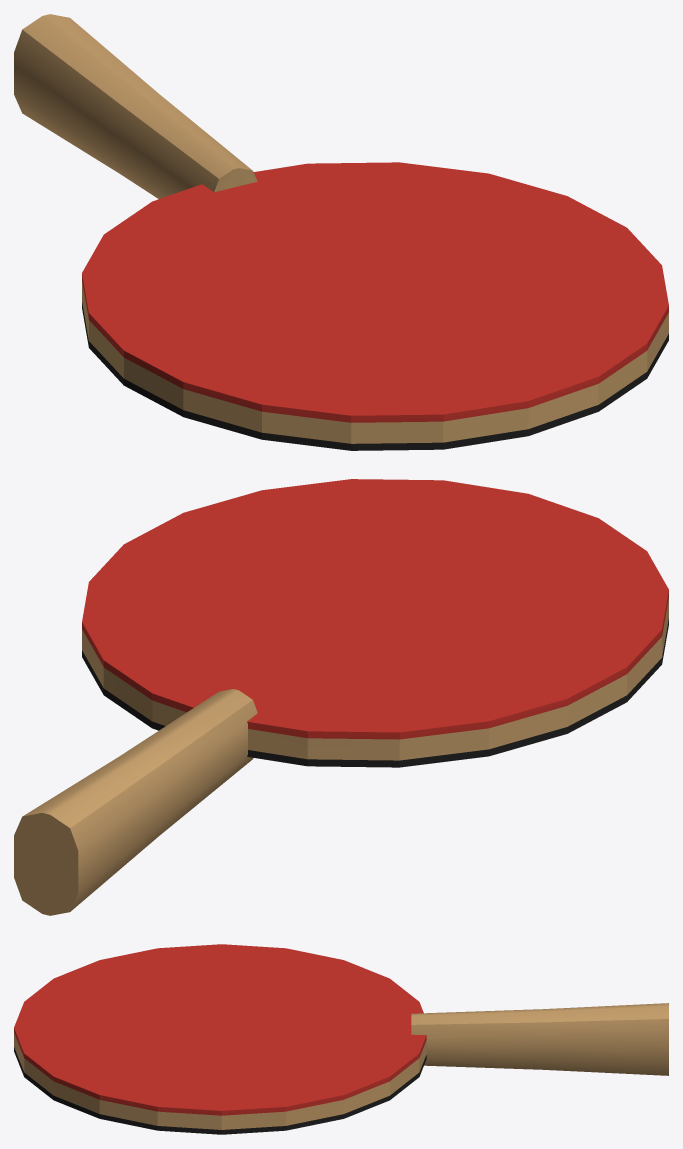
The model's file is bat.glb.
The picture shows the model from 3 angles, top to bottom: view 1: azimuth 30°, elevation 25°; view 2: azimuth 150°, elevation 25°; view 3: azimuth 270°, elevation 25°; orthographic projection. The views are drawn at different scales.
Parts seen in each view (by area): view 1: bat; view 2: bat; view 3: bat.
Part boxes in pixels (box(x1,y1,x2,y2)): bat: box(14, 14, 668, 450); bat: box(14, 479, 668, 915); bat: box(14, 944, 668, 1134).
Size of the model in its own units: 0.15 by 0.0288 by 0.249.
